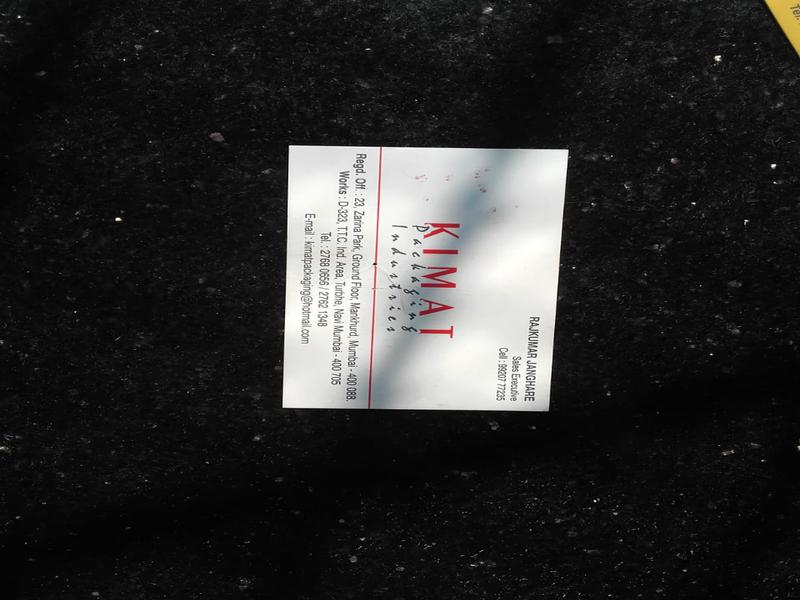card: (283, 148, 567, 408)
